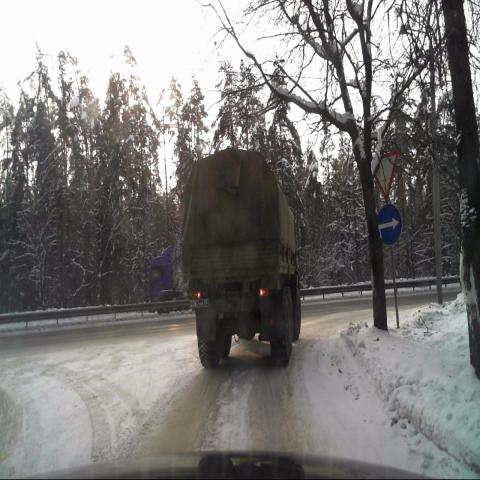4_1_2_1: (377, 205, 402, 245)
